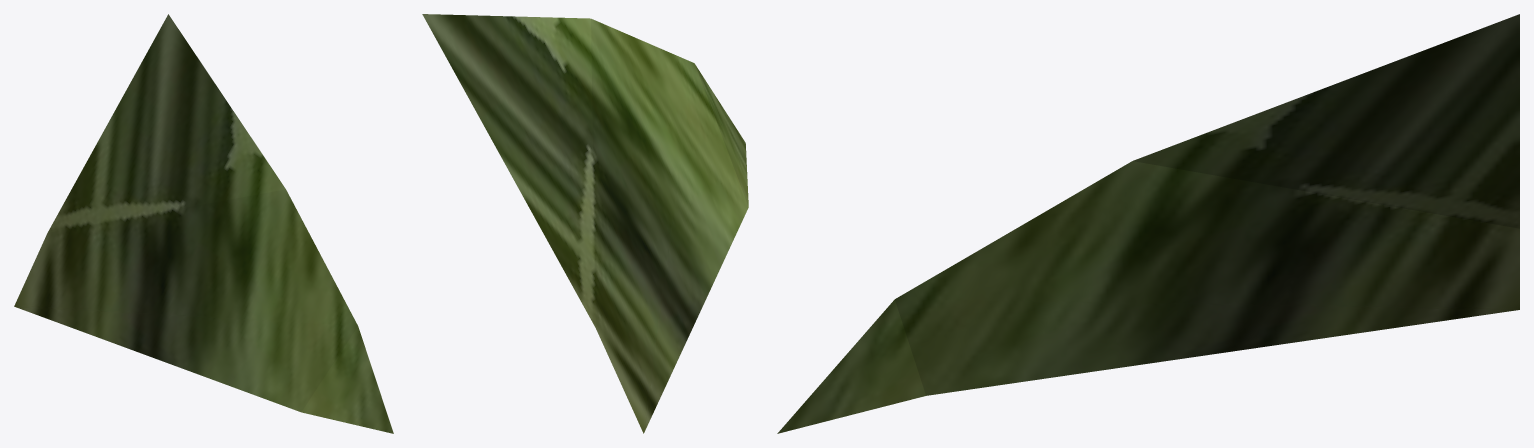
3 views of the same model, side by side, from view 1: azimuth 30°, elevation 25°; view 2: azimuth 150°, elevation 25°; view 3: azimuth 270°, elevation 25° (orthographic). The views are drawn at different scales.
Bounding box in the file's own units: 0.5508 × 0.8694 × 1.39.
Materials: 1 (1 with a texture image).
